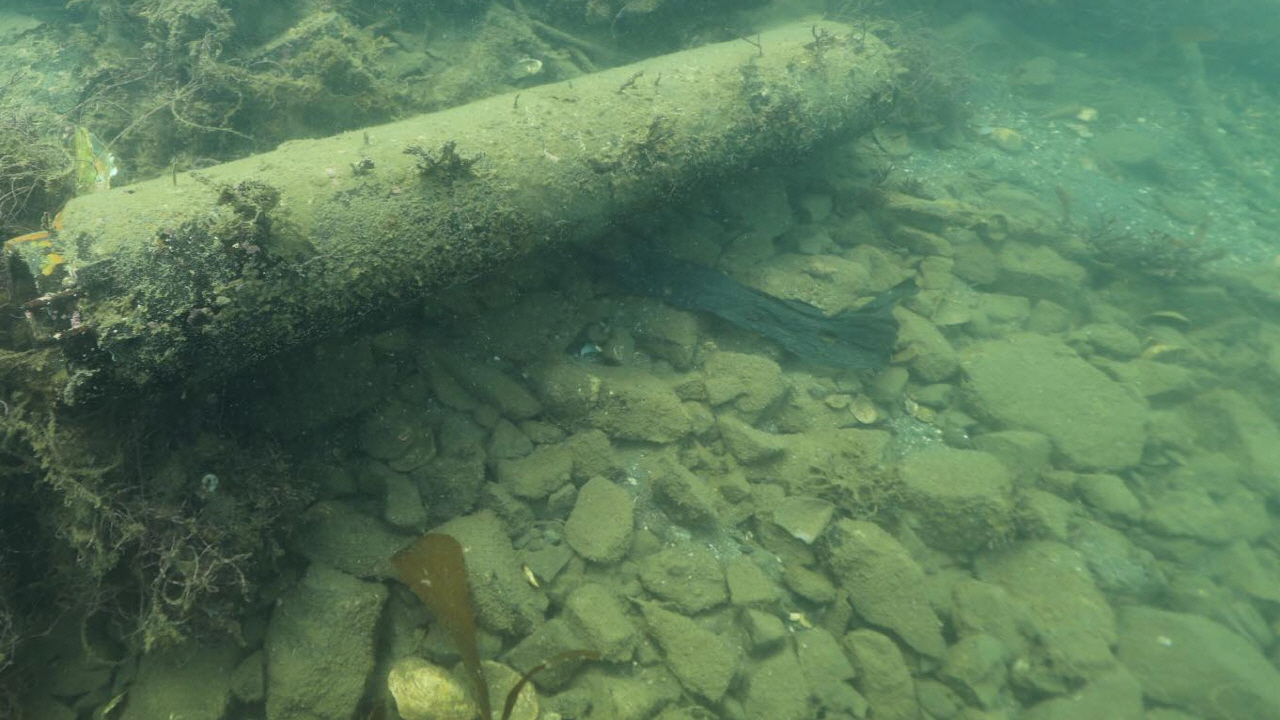eel fish trap: (0, 14, 906, 404)
